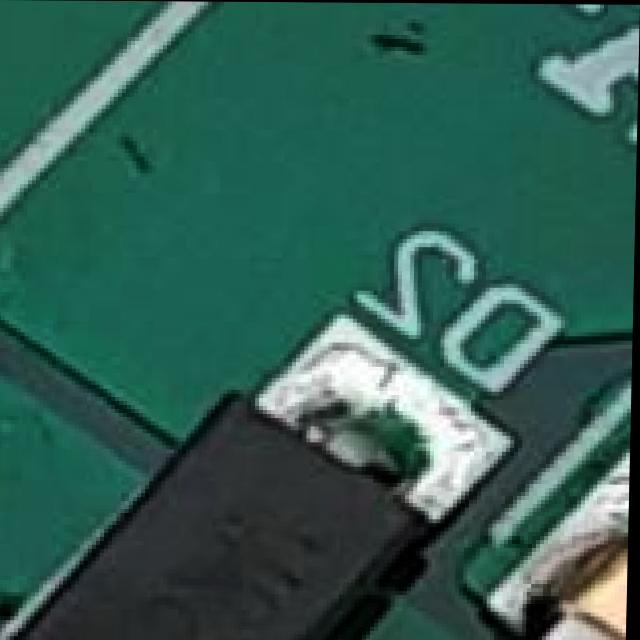LED: (451, 424, 633, 640)
diode: (0, 311, 460, 640)
